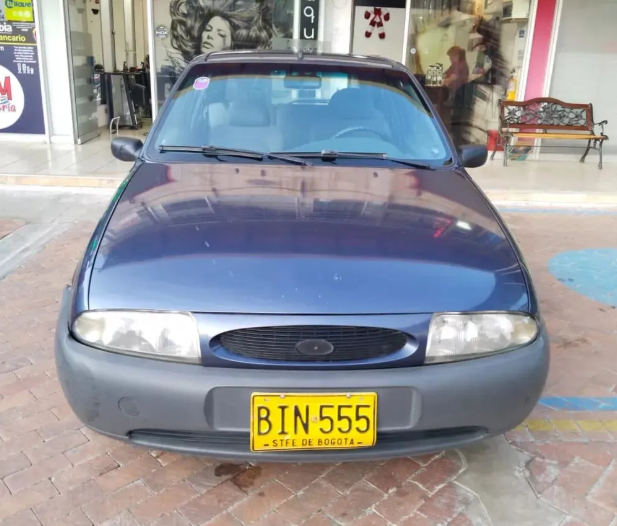placa: (246, 391, 381, 450)
